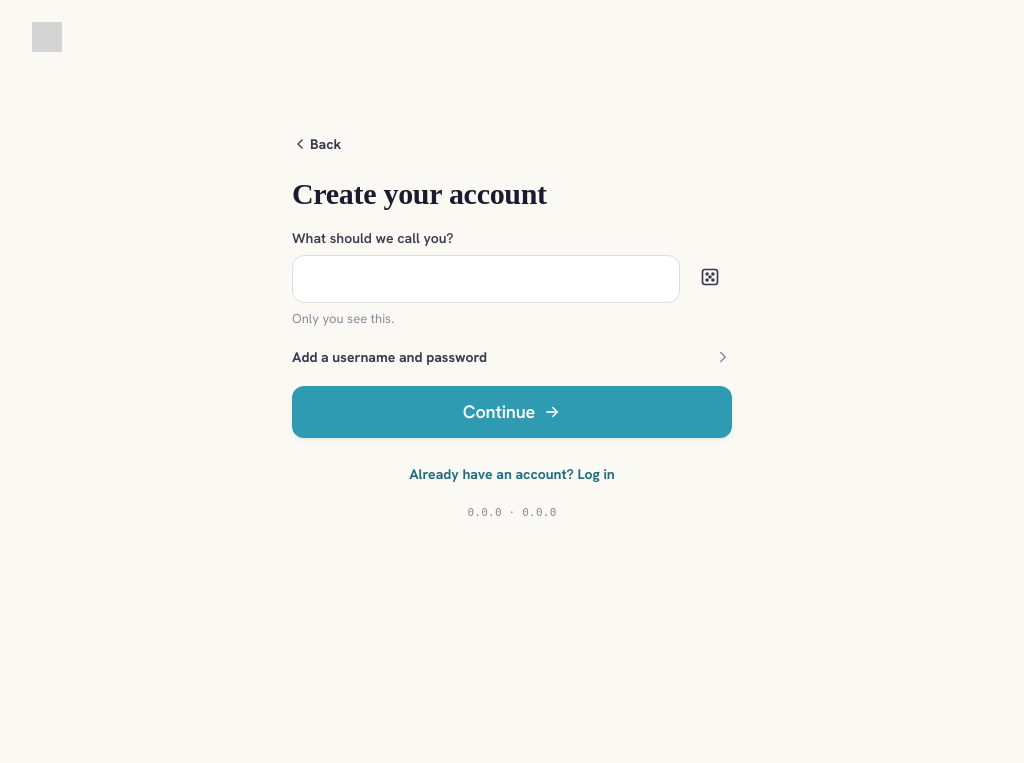
Scenario: App onboarding flow › shows a contentless knock entry in the inbox only when someone knocked
Step 1. Type "robin" into the field labelled "What should we call you?" → (486, 279), box [292, 255, 680, 303]
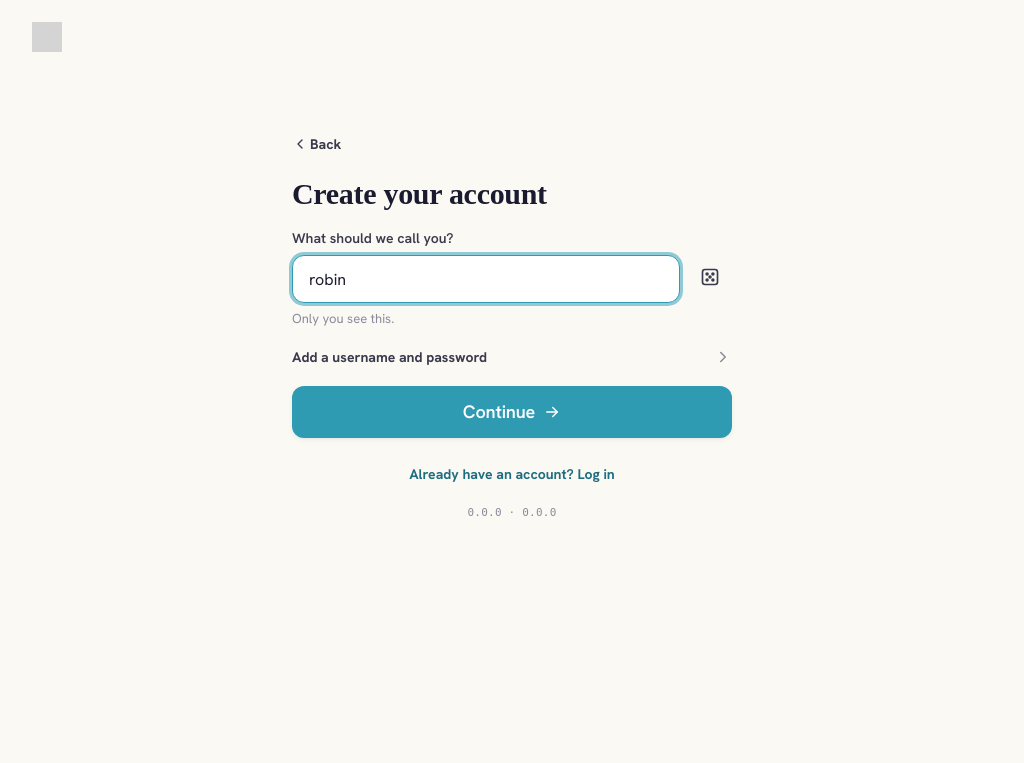
Step 2. Click the button "Continue" → click(512, 412), box [292, 386, 732, 438]
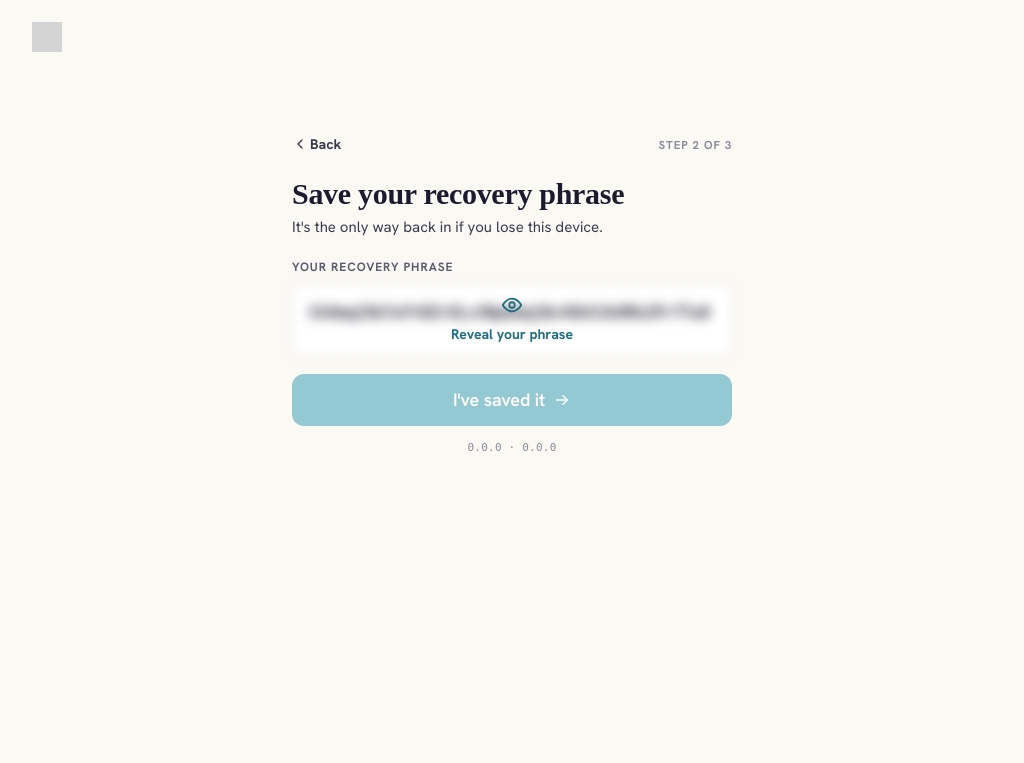
Step 3. Click the button "Reveal your phrase" → click(512, 334), box [292, 284, 732, 356]
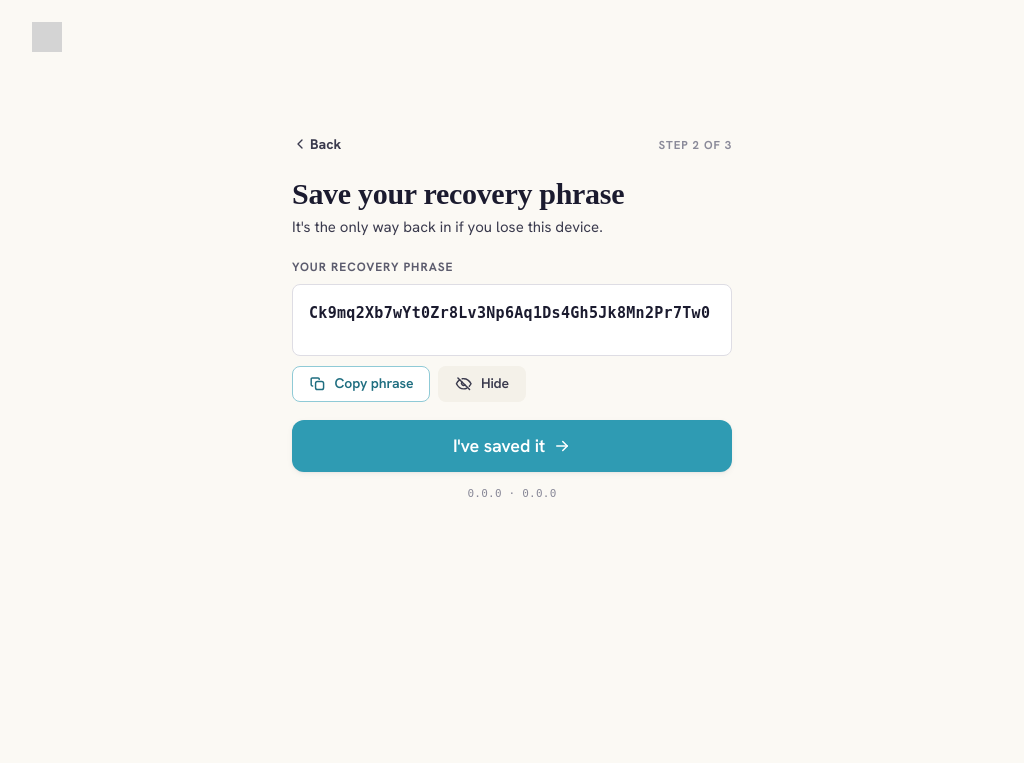
Step 4. Click the button "I've saved it" → click(512, 446), box [292, 420, 732, 472]
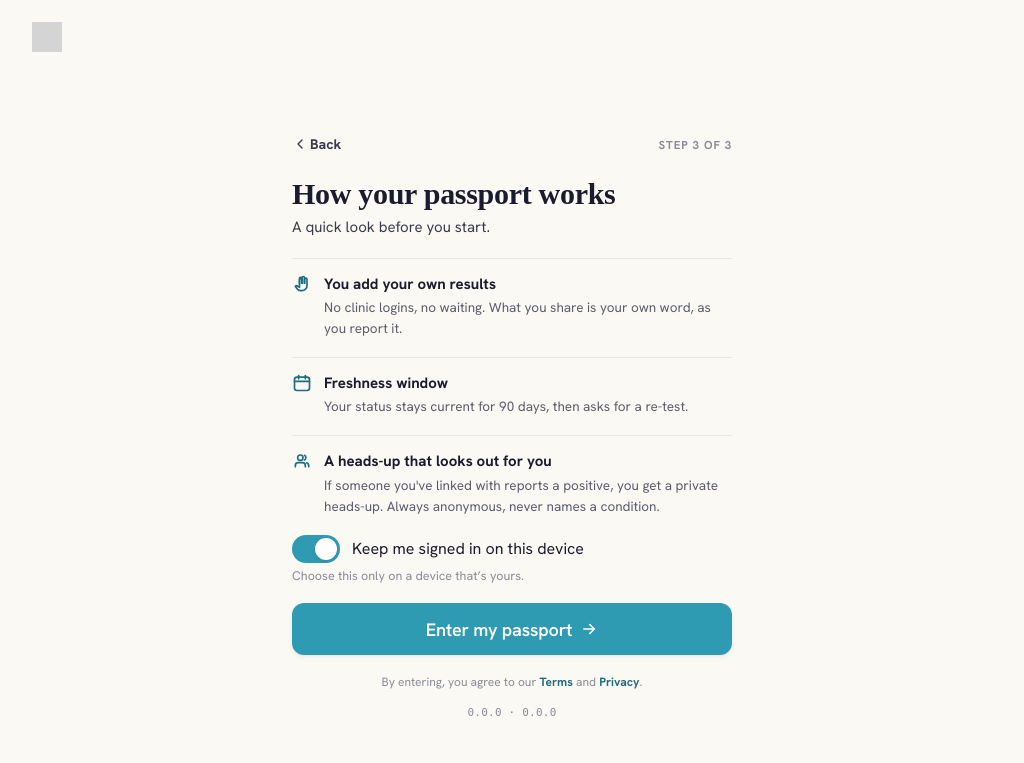
Step 5. Click the button "Enter my passport" → click(512, 630), box [292, 604, 732, 656]
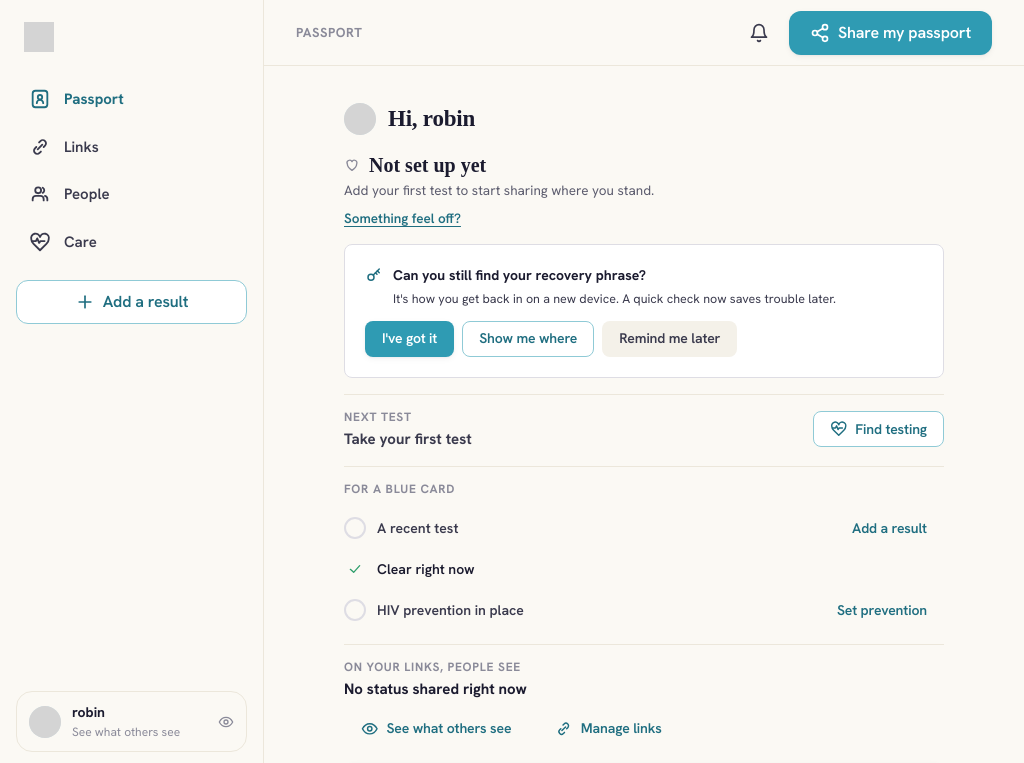
Step 6. Click the button named "Notifications" → click(759, 32), box [737, 10, 781, 54]
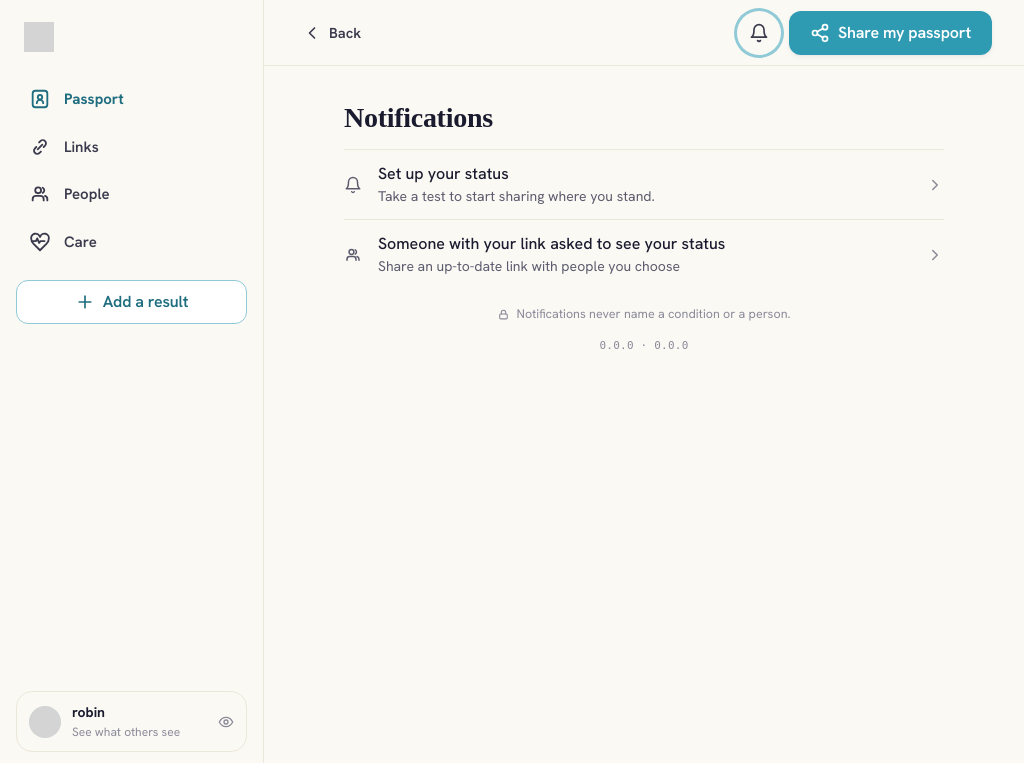
Now the text "Someone with your link asked to see your status" is shown, box [378, 233, 725, 254]
